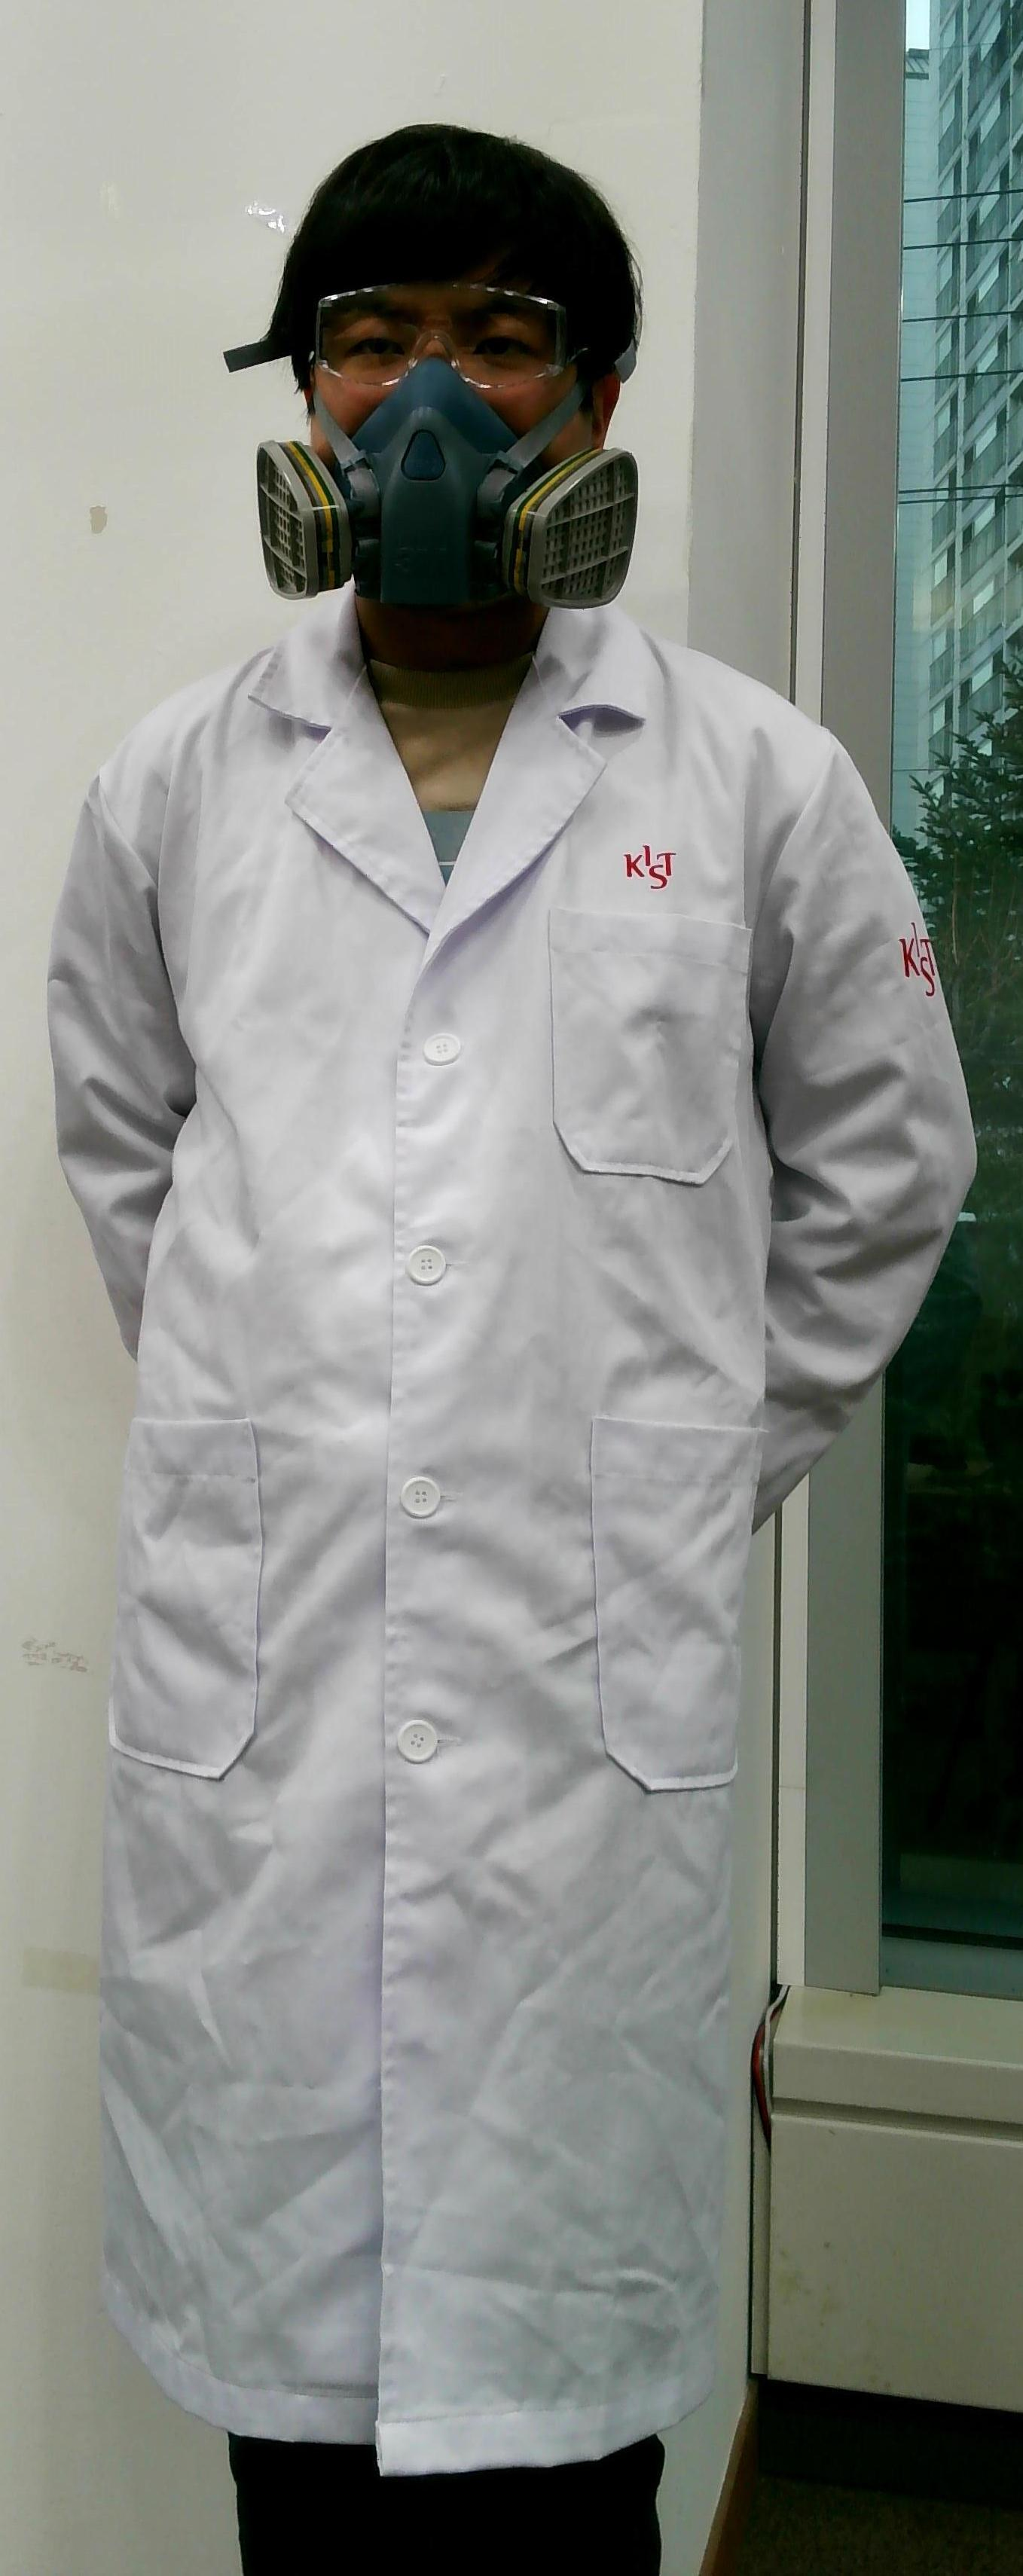lab_coat: (0, 642, 949, 2482)
